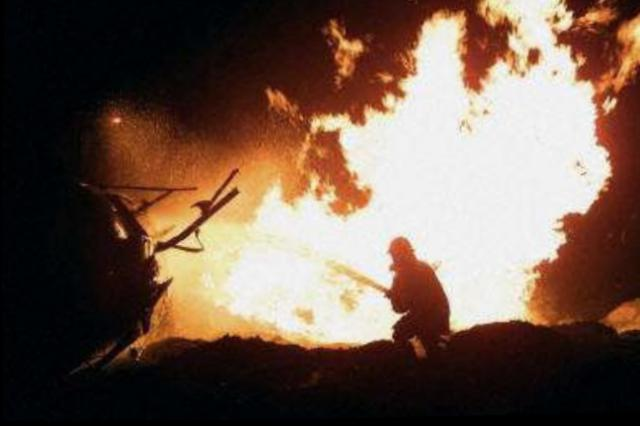fire: (218, 0, 611, 348)
